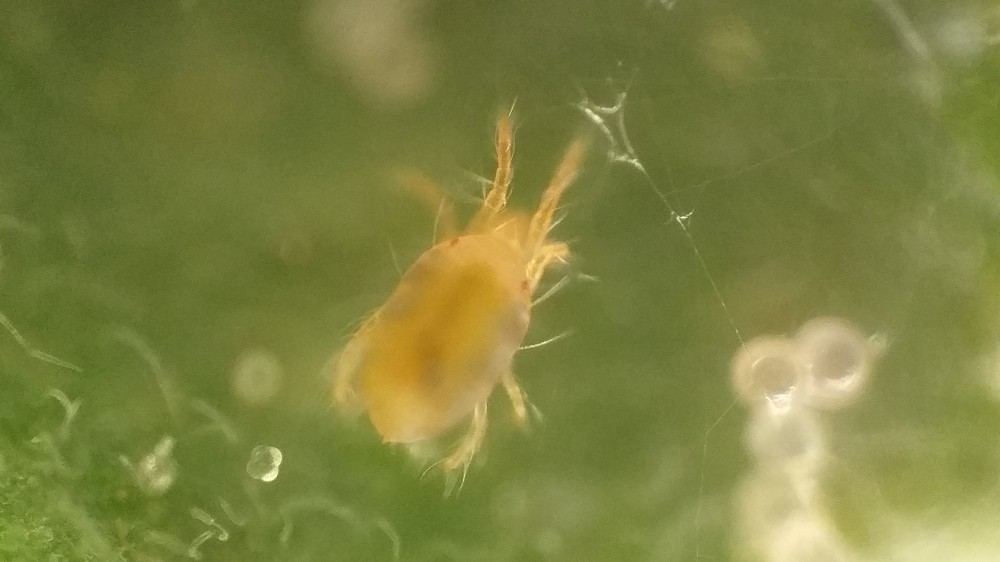Aracnido Rojo: (317, 91, 620, 495)
